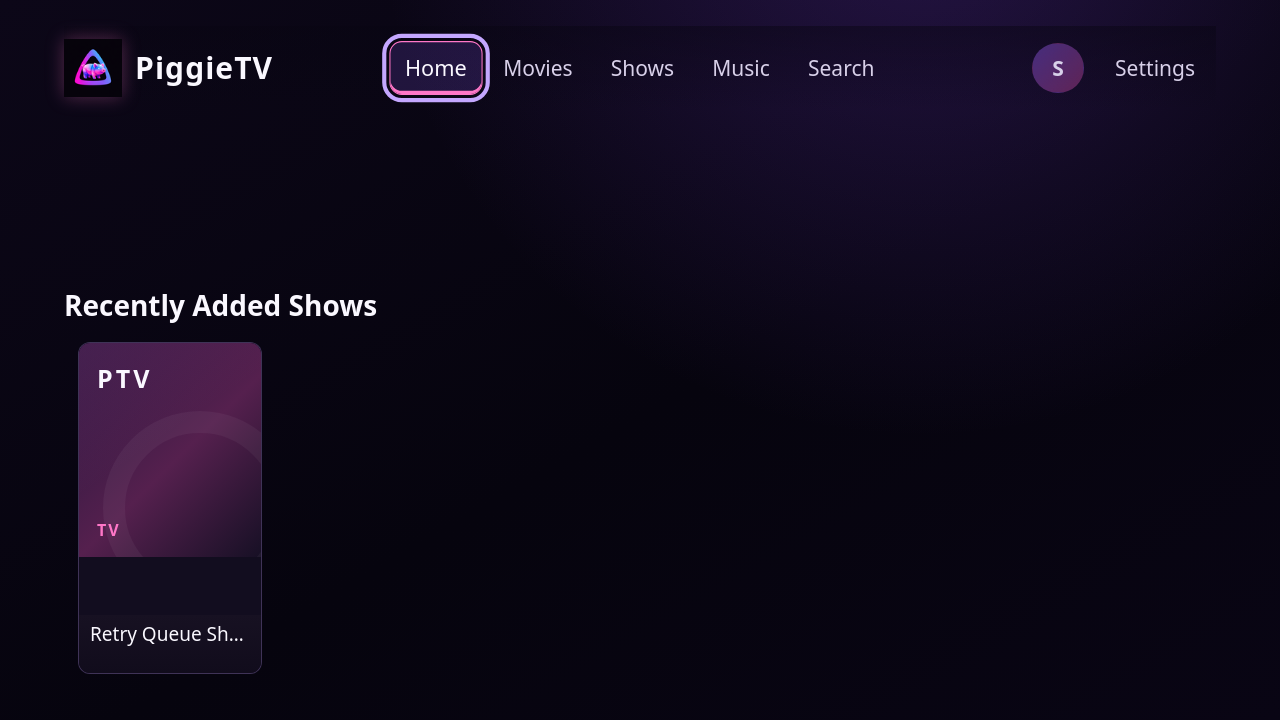
Test: integration: Quick Connect, navigation, and sign-out › shows a recoverable Series queue error without removing Play All or Shuffle All
The image size is (1280, 720).
(page scrolled)
Click the button "PTV TV Retry Queue Show": [170, 508] box left=78, top=342, right=262, bottom=674
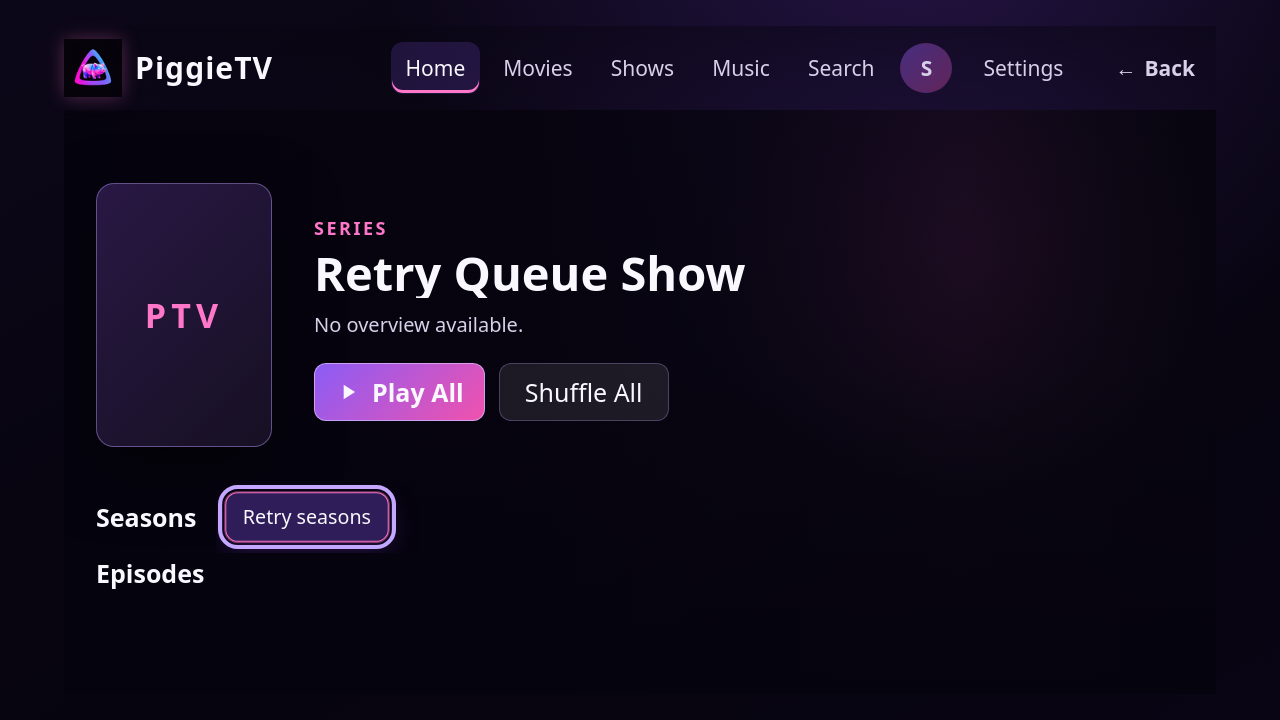
Click the button "Play All": [399, 392] box left=314, top=363, right=485, bottom=421
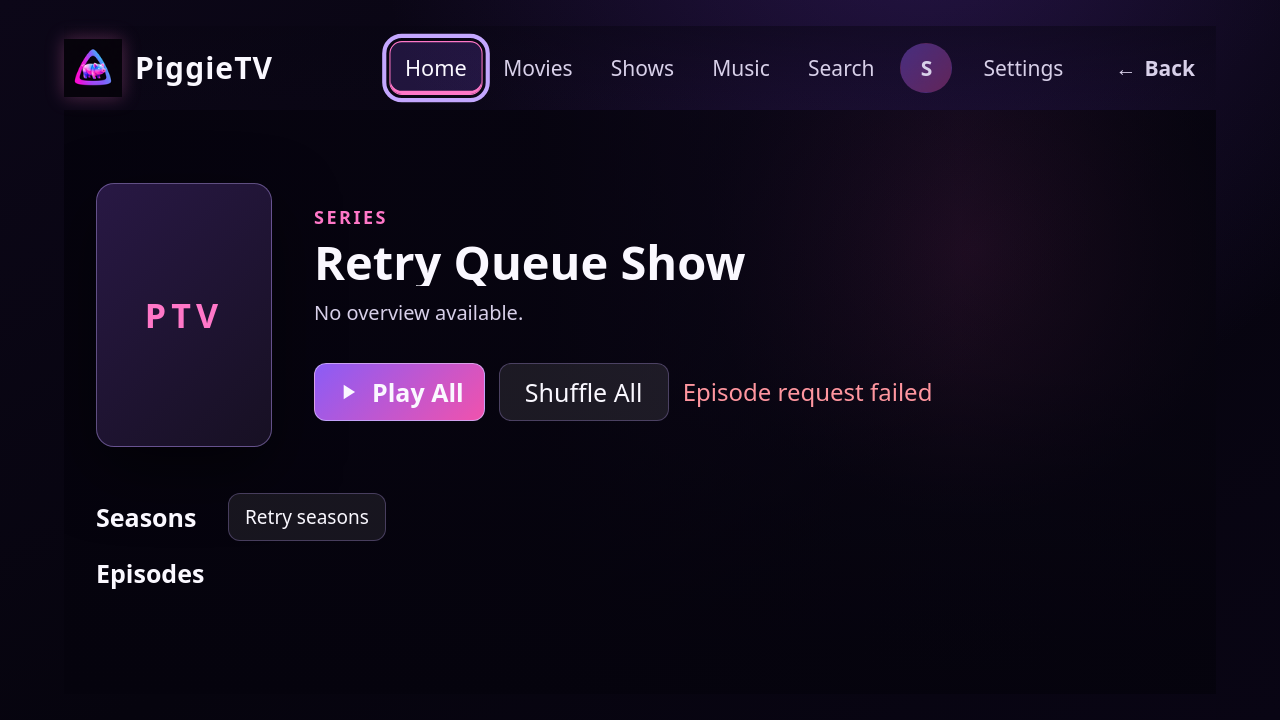
Result: the button "Play All" is shown at left=314, top=363, right=485, bottom=421
Result: the button "Shuffle All" is shown at left=499, top=363, right=669, bottom=421
Result: the message reads "Episode request failed" at left=683, top=375, right=932, bottom=408
